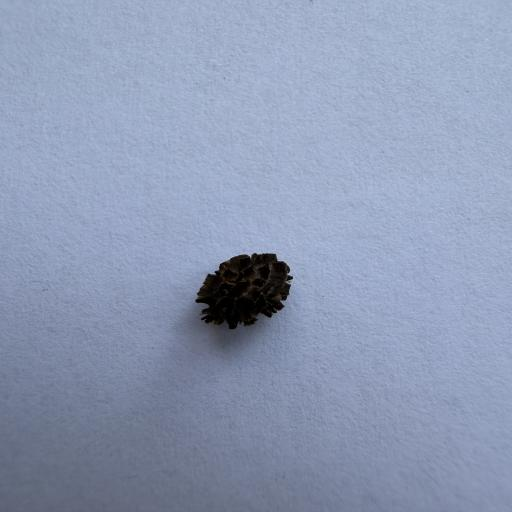papaya_seed: (170, 234, 334, 348)
